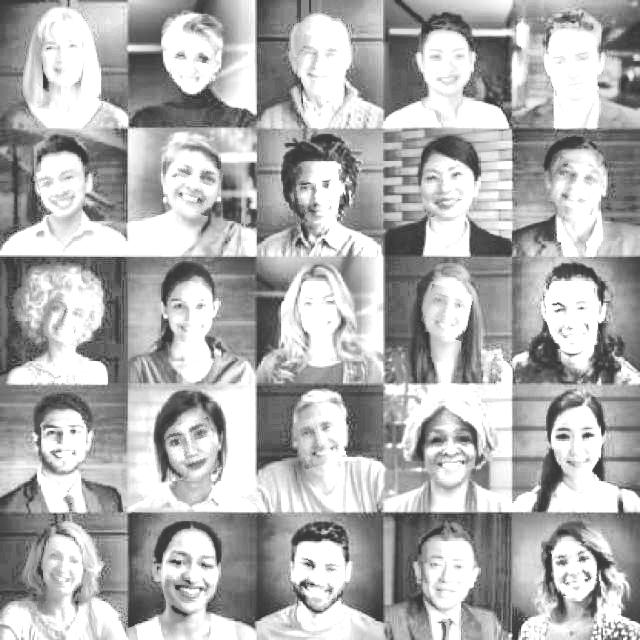happy: (165, 419, 219, 478), (546, 289, 599, 348), (425, 421, 475, 480), (549, 160, 603, 212), (165, 545, 215, 601), (292, 171, 346, 221), (295, 415, 345, 467), (171, 160, 220, 213), (163, 289, 217, 337), (422, 160, 468, 216), (40, 293, 89, 345), (37, 415, 86, 467), (550, 42, 598, 94), (422, 287, 470, 339), (553, 544, 599, 596), (553, 417, 597, 471), (294, 551, 342, 599), (426, 548, 470, 600), (297, 36, 345, 83), (170, 40, 216, 88), (38, 165, 84, 213), (426, 43, 472, 89), (42, 33, 86, 79), (298, 290, 340, 334), (44, 542, 82, 587)
